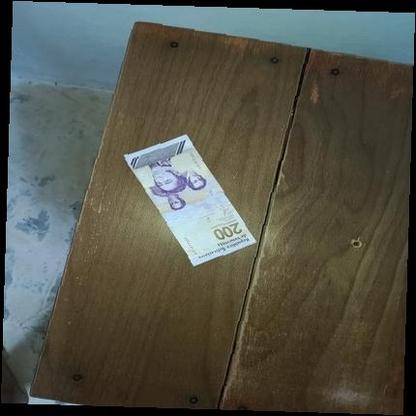two_hundred-front-vef: (123, 132, 257, 266)
